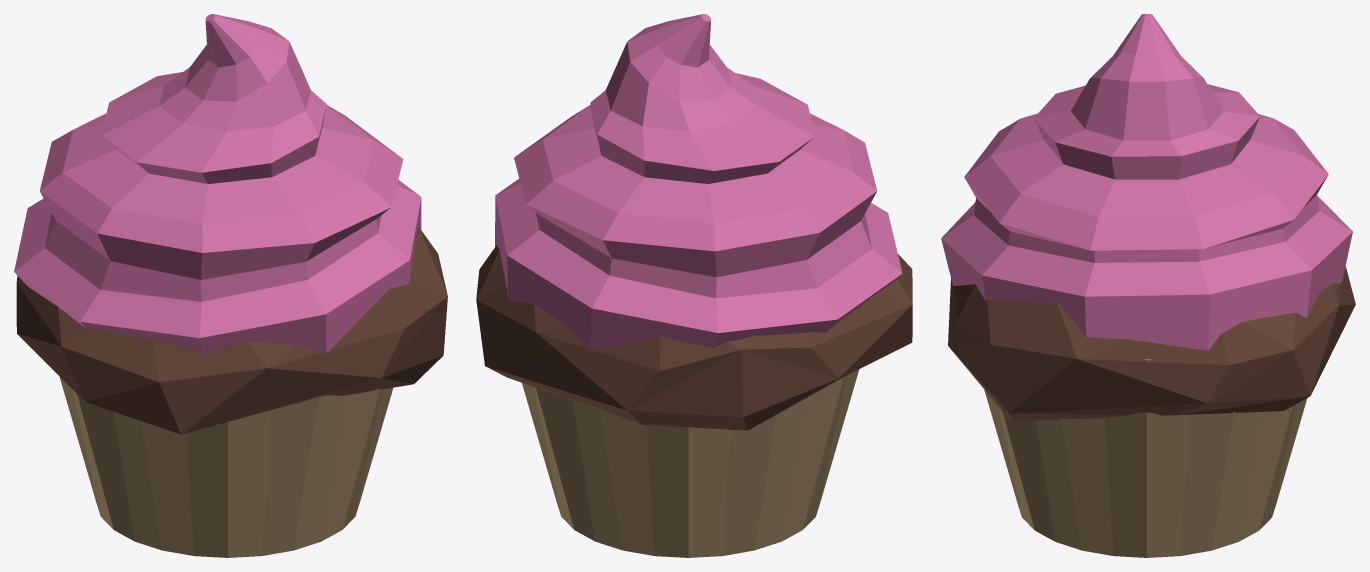
Rendered from Cupcake.obj.
3 views of the same model, side by side, from view 1: azimuth 30°, elevation 25°; view 2: azimuth 150°, elevation 25°; view 3: azimuth 270°, elevation 25° (orthographic).
Parts seen in each view (by area): view 1: mesh_1, mesh_0, mesh_2; view 2: mesh_1, mesh_0, mesh_2; view 3: mesh_1, mesh_0, mesh_2.
Boxes of the visible parts, left/top/right/bottom form: mesh_1: left=14, top=14, right=421, bottom=353; mesh_0: left=59, top=376, right=393, bottom=557; mesh_2: left=16, top=226, right=447, bottom=434; mesh_1: left=495, top=14, right=902, bottom=349; mesh_0: left=522, top=349, right=859, bottom=557; mesh_2: left=476, top=245, right=912, bottom=430; mesh_1: left=941, top=14, right=1352, bottom=350; mesh_0: left=984, top=359, right=1307, bottom=557; mesh_2: left=948, top=266, right=1355, bottom=421.
Size of the model in its own units: 0.7342 by 0.9316 by 0.7258.
